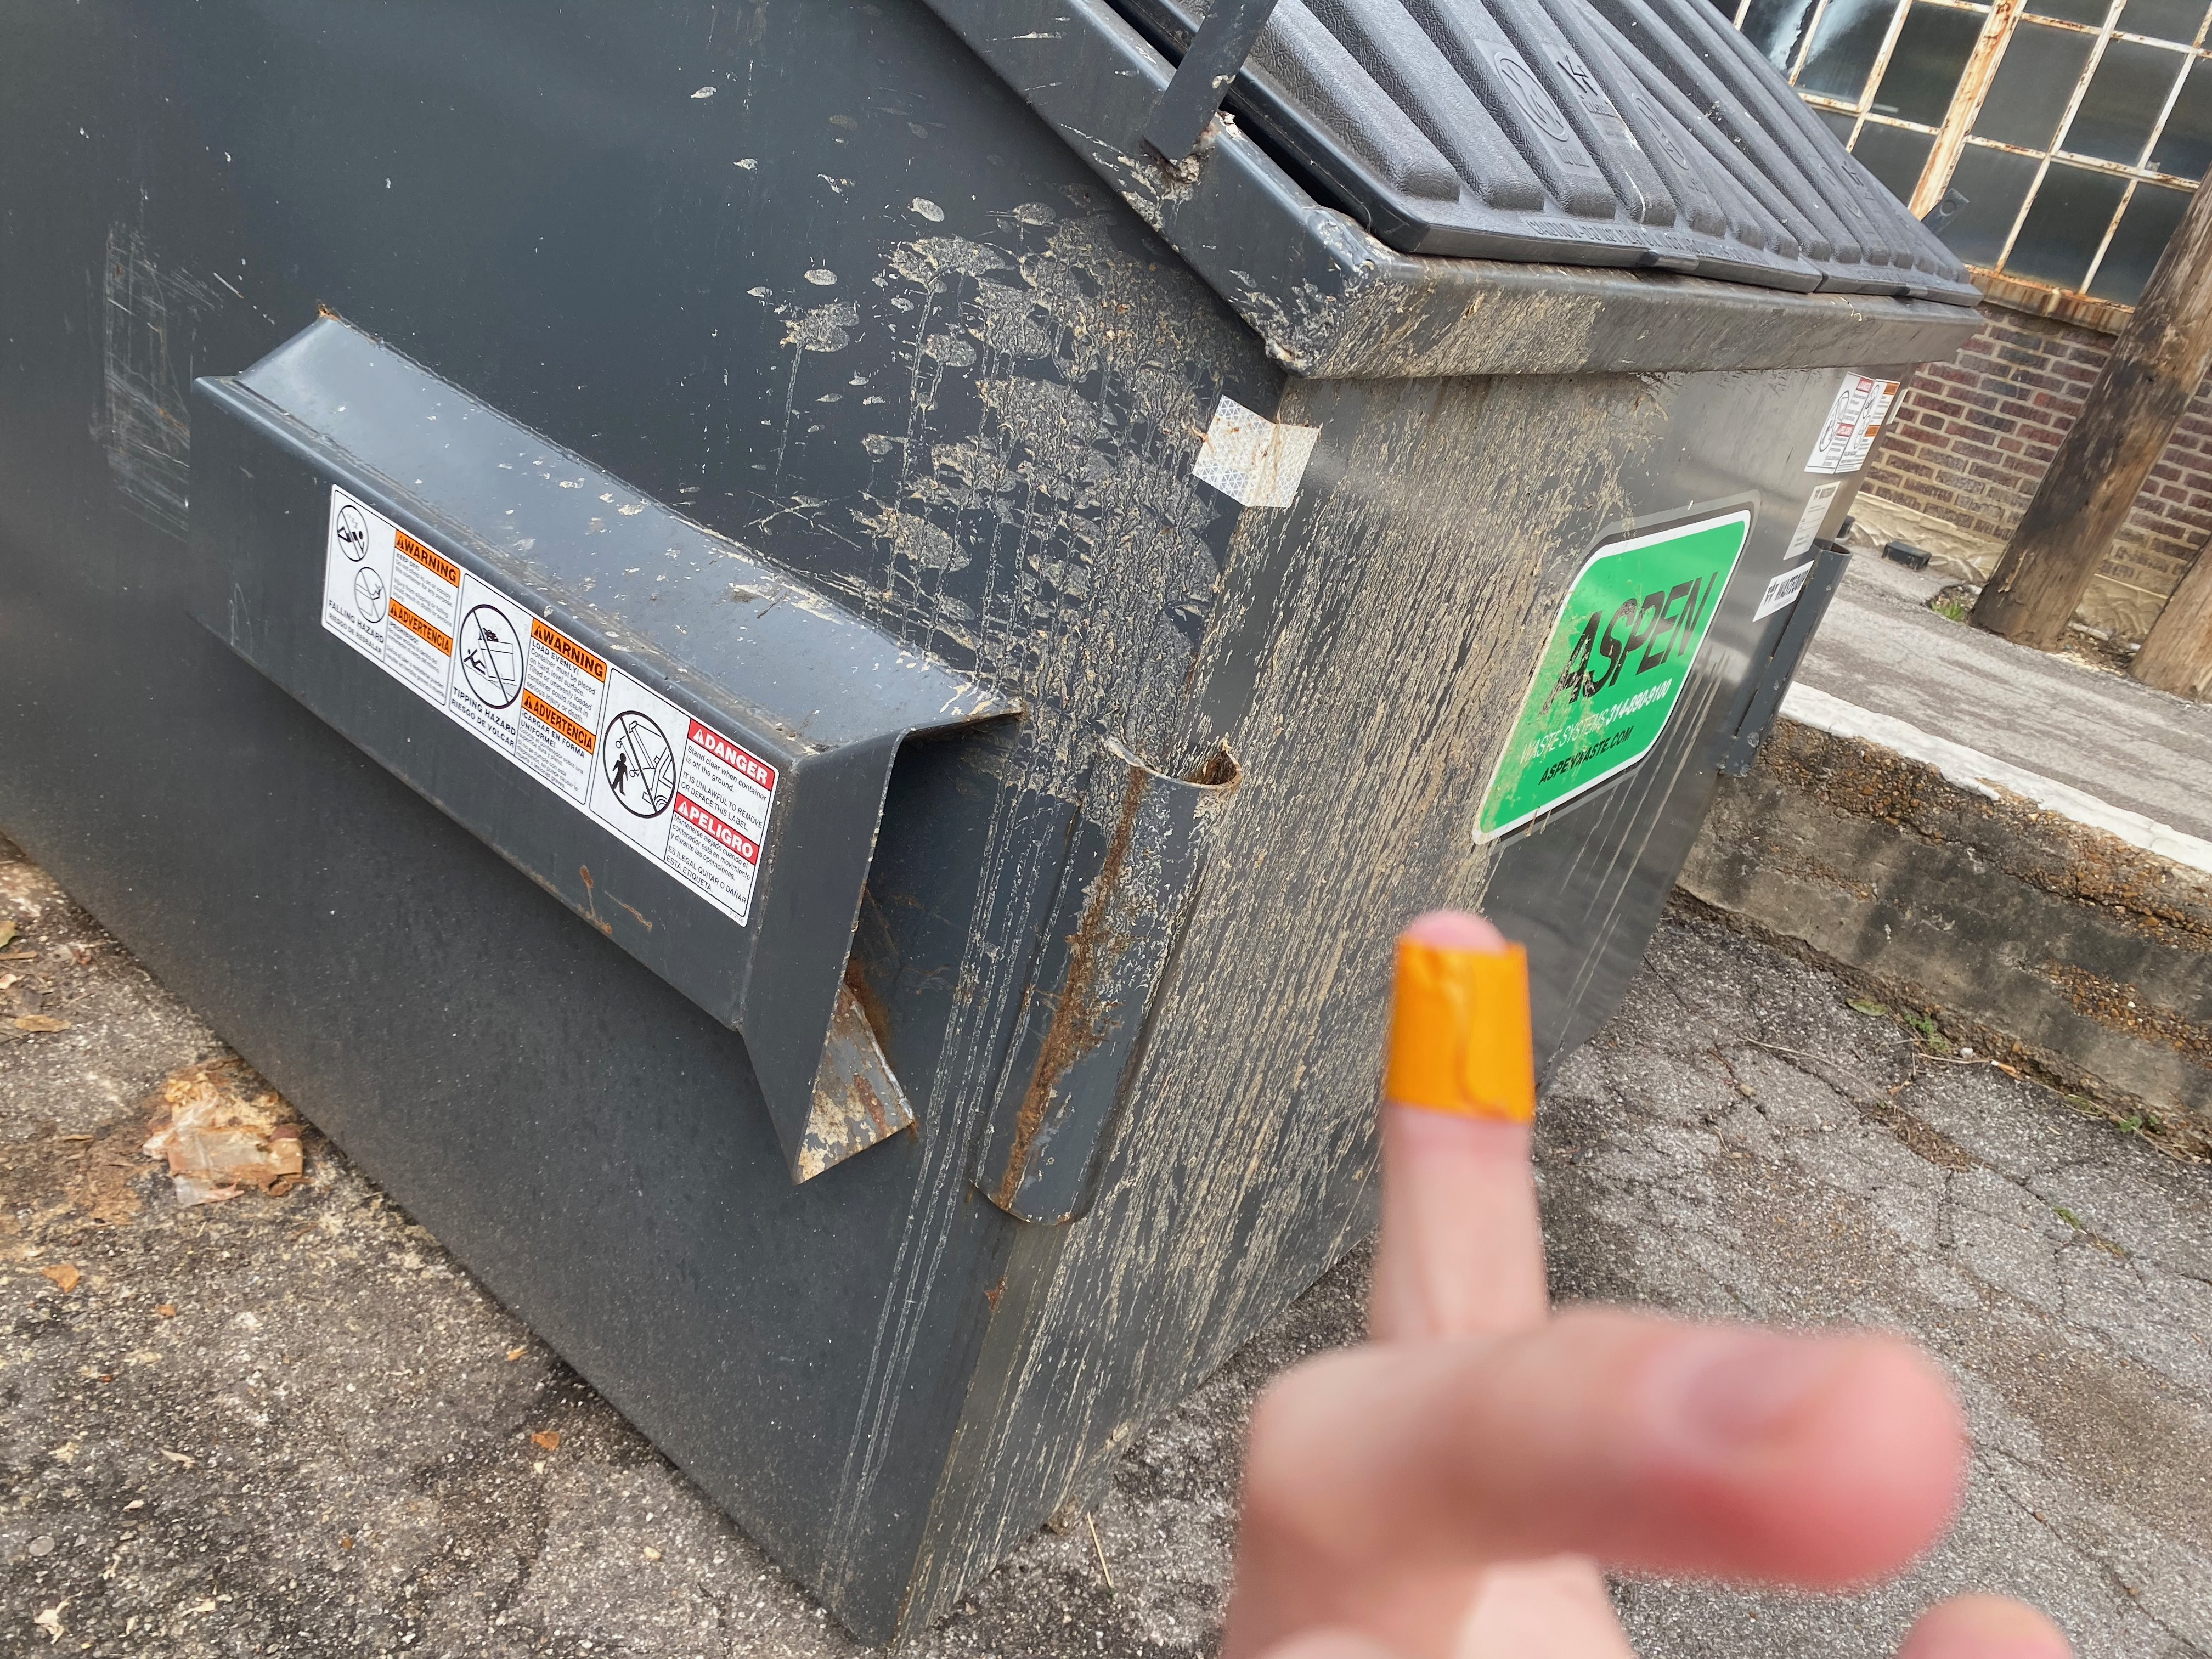fingertip: (1352, 894, 1590, 1162)
